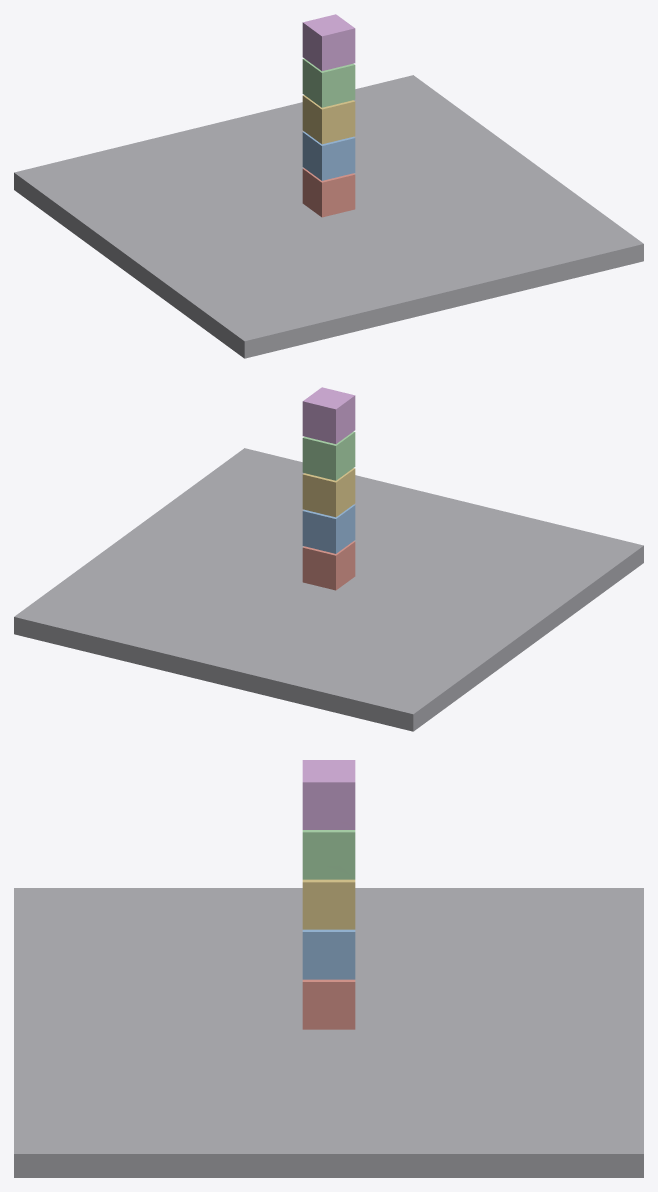
The model's file is StackDemo.gltf.
3 renders of one model, top to bottom at view 1: azimuth 30°, elevation 25°; view 2: azimuth 150°, elevation 25°; view 3: azimuth 270°, elevation 25°, orthographic. The views are drawn at different scales.
Parts seen in each view (by area): view 1: Floor, Box4, Box1, Box3, Box0, Box2; view 2: Floor, Box4, Box1, Box3, Box0, Box2; view 3: Floor, Box4, Box0, Box1, Box2, Box3.
Boxes of the visible parts, box(x1,y1,x2,y2) form: Floor: box(14, 75, 643, 358); Box4: box(302, 14, 355, 70); Box1: box(302, 131, 355, 180); Box3: box(302, 58, 355, 107); Box0: box(302, 168, 355, 217); Box2: box(302, 95, 355, 144); Floor: box(14, 448, 643, 731); Box4: box(302, 387, 355, 443); Box1: box(302, 504, 355, 553); Box3: box(302, 431, 355, 480); Box0: box(302, 541, 355, 590); Box2: box(302, 468, 355, 517); Floor: box(14, 888, 643, 1177); Box4: box(302, 760, 355, 829); Box0: box(302, 979, 355, 1029); Box1: box(302, 929, 355, 979); Box2: box(302, 879, 355, 929); Box3: box(302, 830, 355, 879).
Bounding box in the file's own units: 12 × 5.75 × 12.
